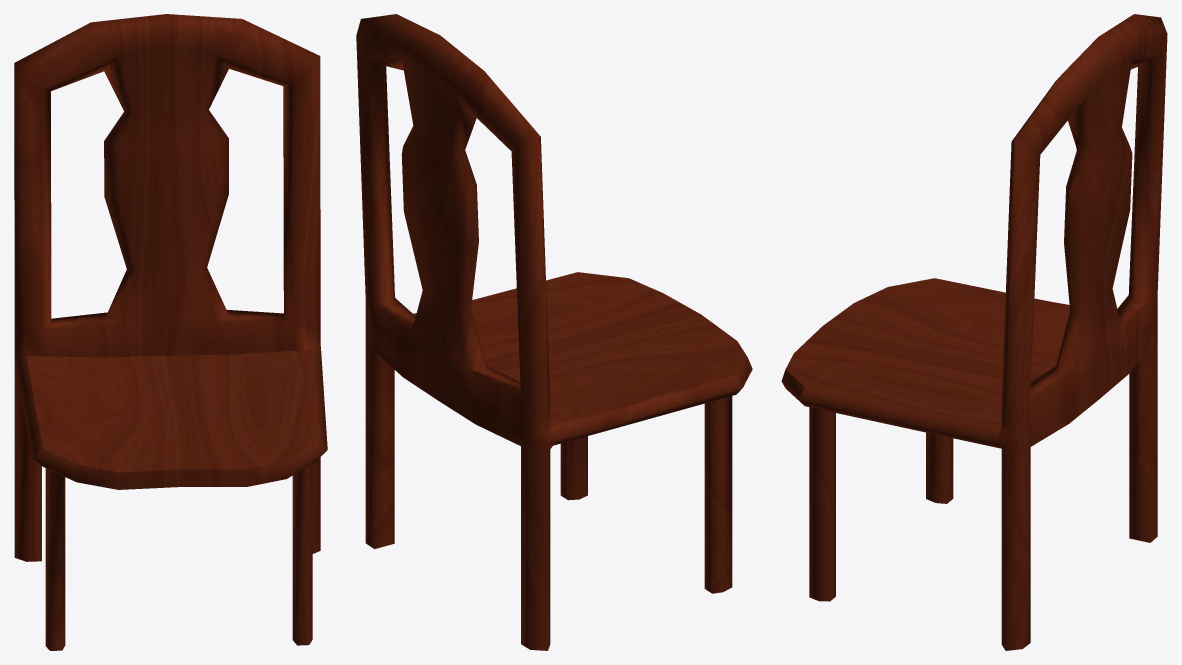
Rendered from chair.fbx.
3 views of the same model, side by side, from view 1: azimuth 30°, elevation 25°; view 2: azimuth 150°, elevation 25°; view 3: azimuth 270°, elevation 25° (orthographic). The views are drawn at different scales.
Parts seen in each view (by area): view 1: Chair3; view 2: Chair3; view 3: Chair3.
Boxes of the visible parts, x1,y1,x2,y2 form: Chair3: (14,14,327,650); Chair3: (356,14,752,650); Chair3: (781,14,1167,650).
Bounding box in the file's own units: 6.53 × 10.23 × 6.42.
